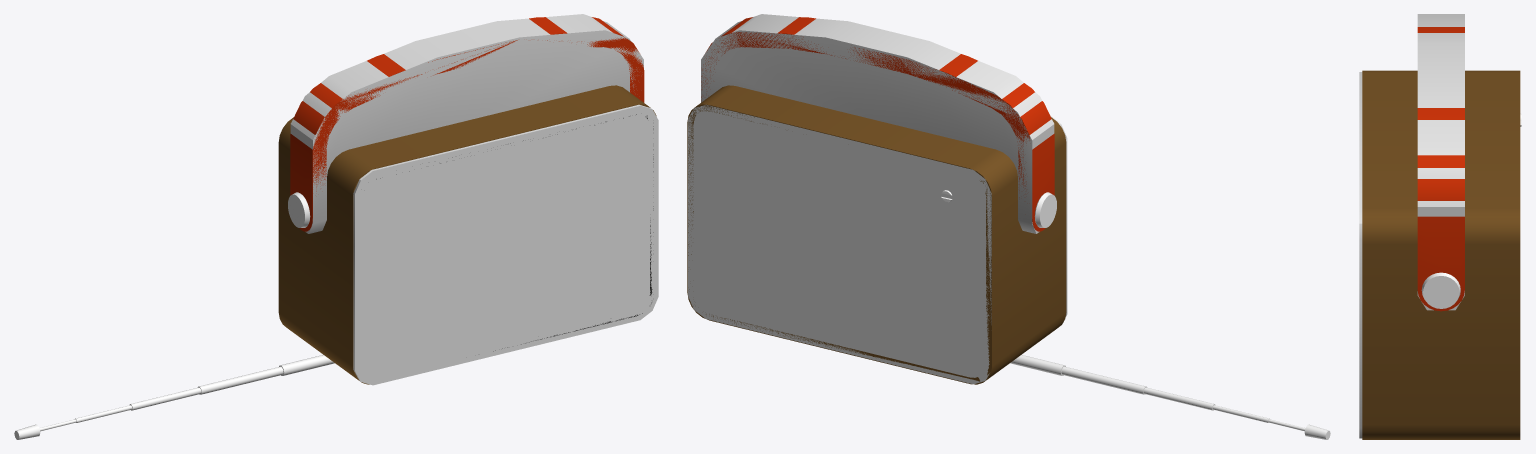
File: SM_radio.fbx
The picture shows the model from 3 angles, left to right: view 1: azimuth 30°, elevation 25°; view 2: azimuth 150°, elevation 25°; view 3: azimuth 270°, elevation 25°; orthographic projection. The views are drawn at different scales.
Visible parts, largest first — view 1: col_radioDown, SM_radio, col_radioUp, SM_antenna; view 2: col_radioDown, SM_radio, col_radioUp, SM_antenna; view 3: SM_radio, col_radioUp, col_radioDown.
Boxes of the visible parts, left/top/right/bottom form: col_radioDown: left=353, top=104, right=658, bottom=385; SM_radio: left=278, top=17, right=656, bottom=384; col_radioUp: left=290, top=14, right=643, bottom=233; SM_antenna: left=14, top=355, right=334, bottom=439; col_radioDown: left=688, top=104, right=1067, bottom=384; SM_radio: left=687, top=17, right=1066, bottom=384; col_radioUp: left=701, top=14, right=1054, bottom=233; SM_antenna: left=1010, top=355, right=1330, bottom=439; SM_radio: left=1362, top=27, right=1521, bottom=439; col_radioUp: left=1417, top=14, right=1464, bottom=310; col_radioDown: left=1359, top=72, right=1362, bottom=438.
Size of the model in its own units: 49.86 by 23.33 by 10.63.
